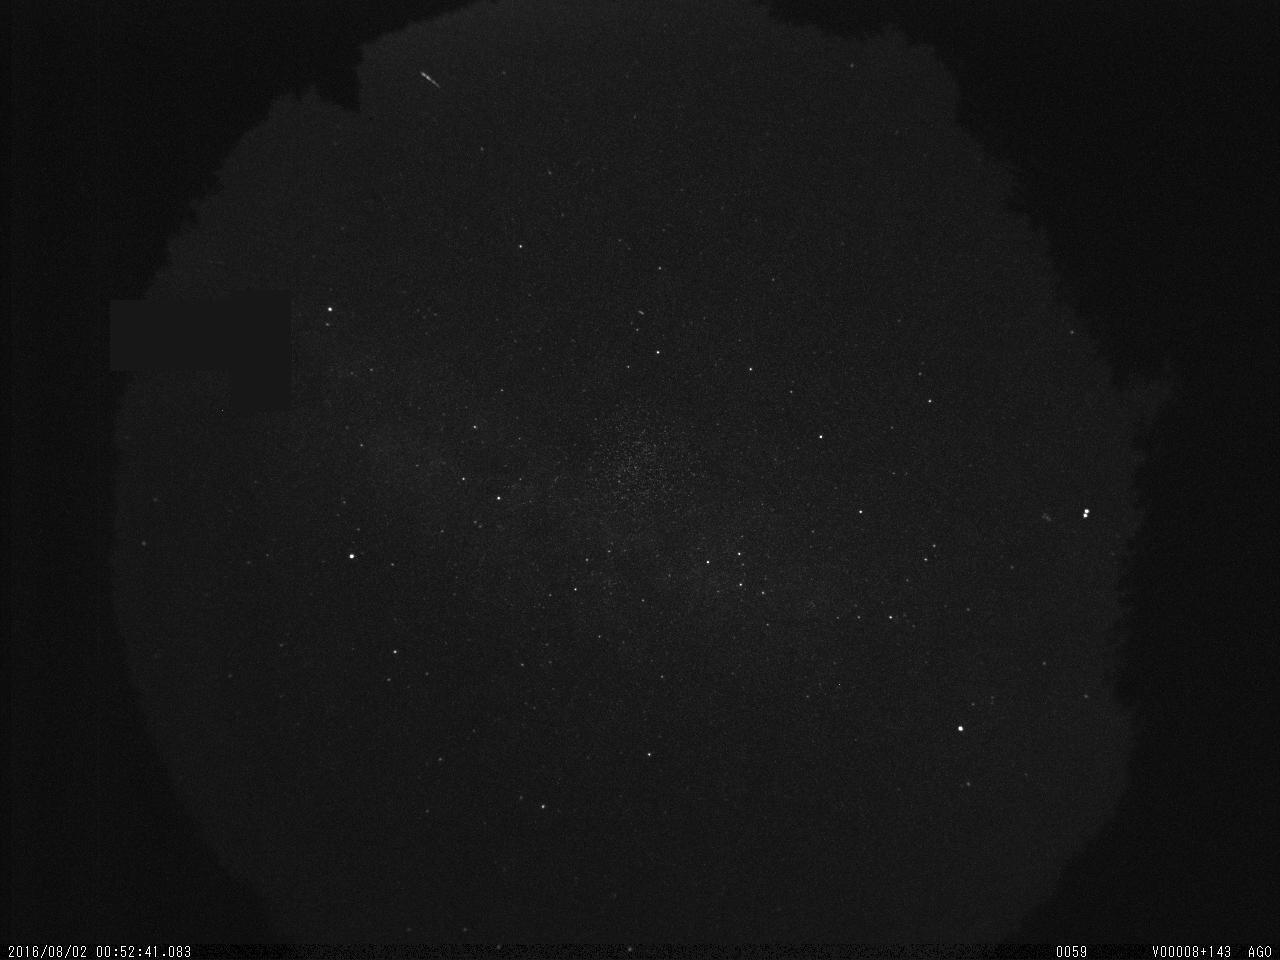meteor: (415, 65, 451, 102)
